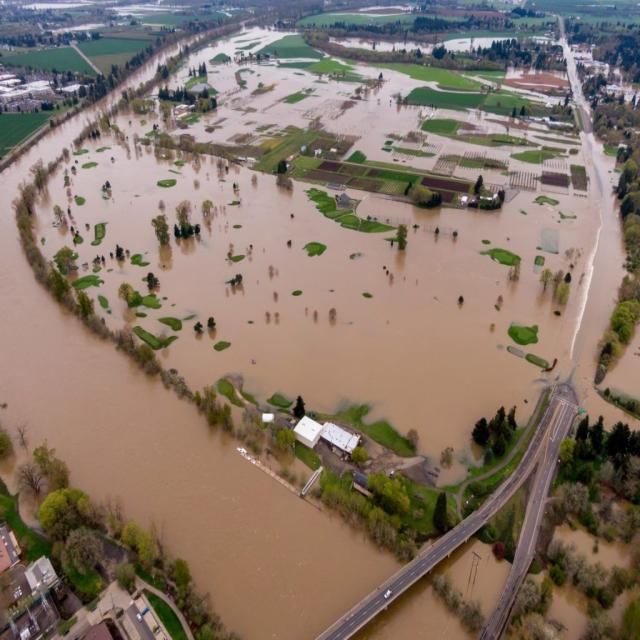flooded_areas: (0, 114, 609, 632)
